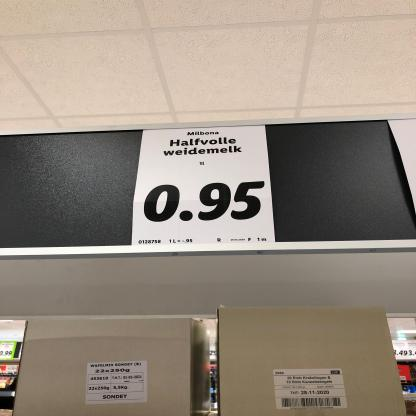prtg: (133, 126, 276, 246)
